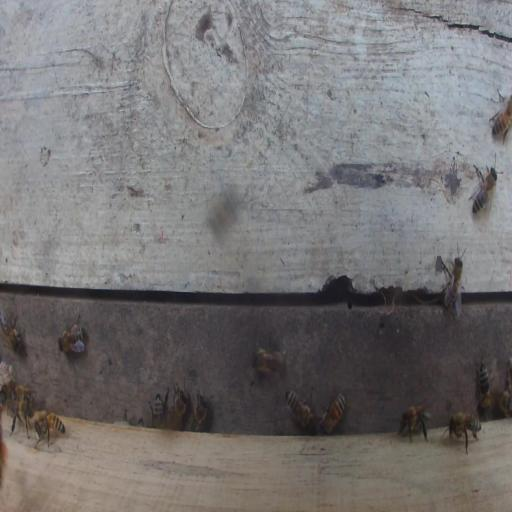nonpollenbee: (439, 240, 466, 319), (446, 410, 482, 453), (470, 165, 498, 216), (397, 403, 431, 444), (31, 410, 65, 449), (5, 397, 34, 440), (285, 388, 315, 429), (489, 90, 511, 144), (251, 345, 288, 377), (319, 392, 347, 434), (0, 310, 24, 354), (58, 320, 87, 355), (164, 387, 188, 429), (190, 389, 209, 432), (476, 359, 491, 413), (12, 385, 39, 407), (499, 369, 511, 416), (150, 393, 164, 428)
